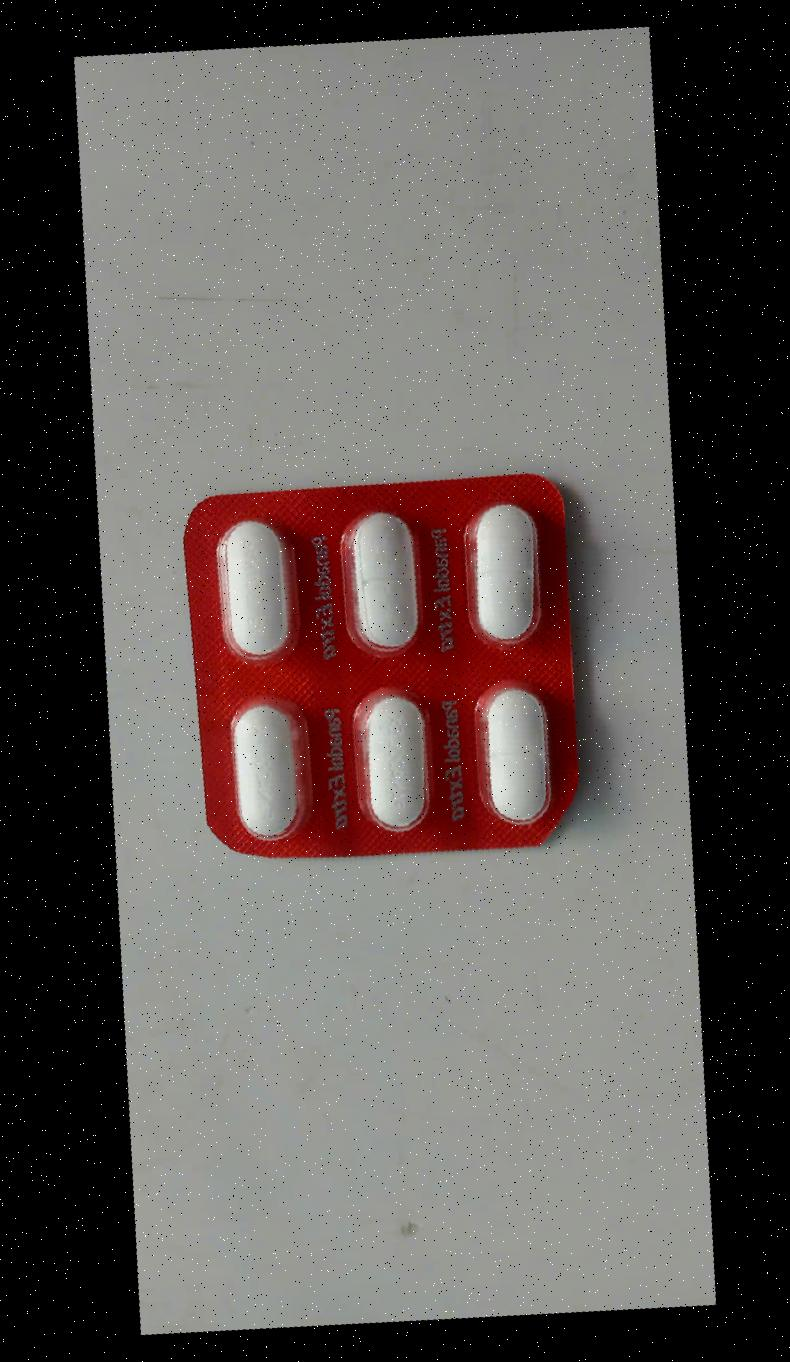Full: (460, 679, 571, 838), (456, 495, 567, 654), (340, 680, 450, 839), (206, 509, 316, 668), (214, 691, 324, 849), (336, 504, 446, 662)
